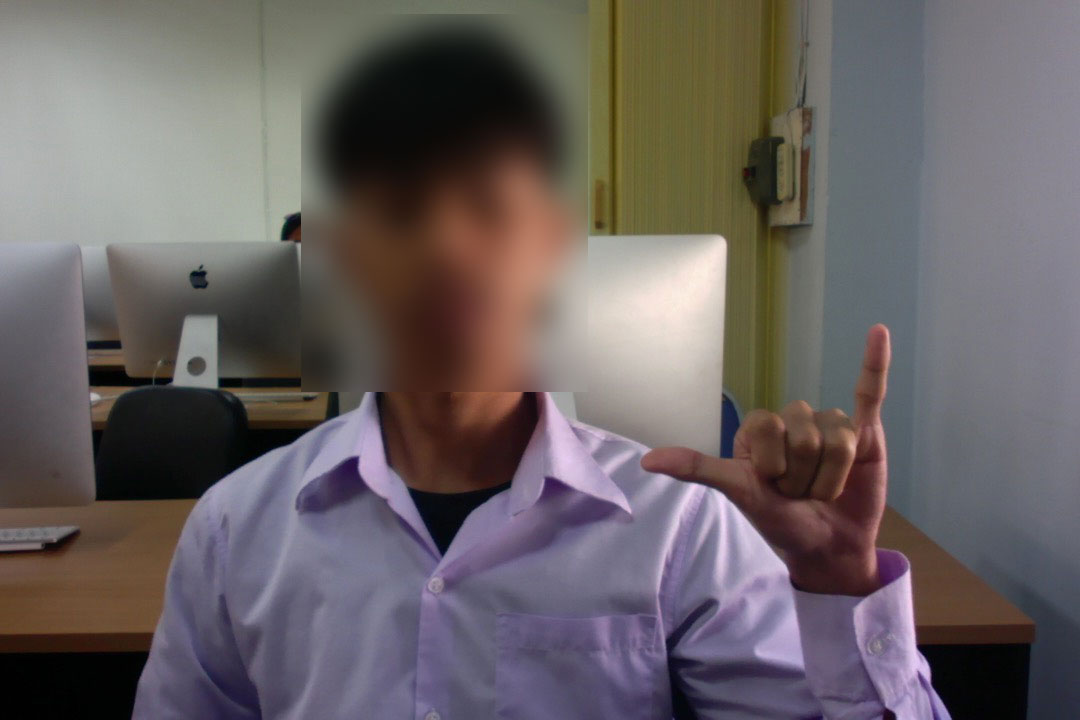yor: (631, 321, 899, 583)
